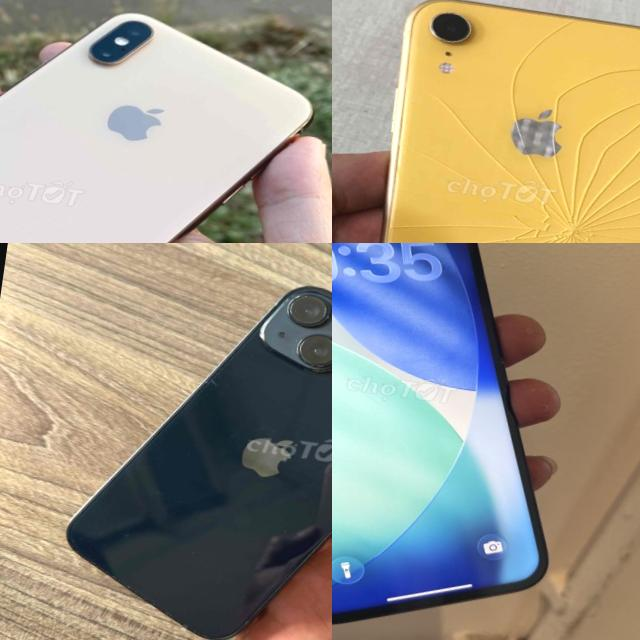gen_12_13: (52, 257, 332, 640), (332, 243, 547, 623)
gen_x_xs: (0, 0, 329, 243), (343, 0, 640, 243)
physical_damage: (367, 0, 640, 243)
